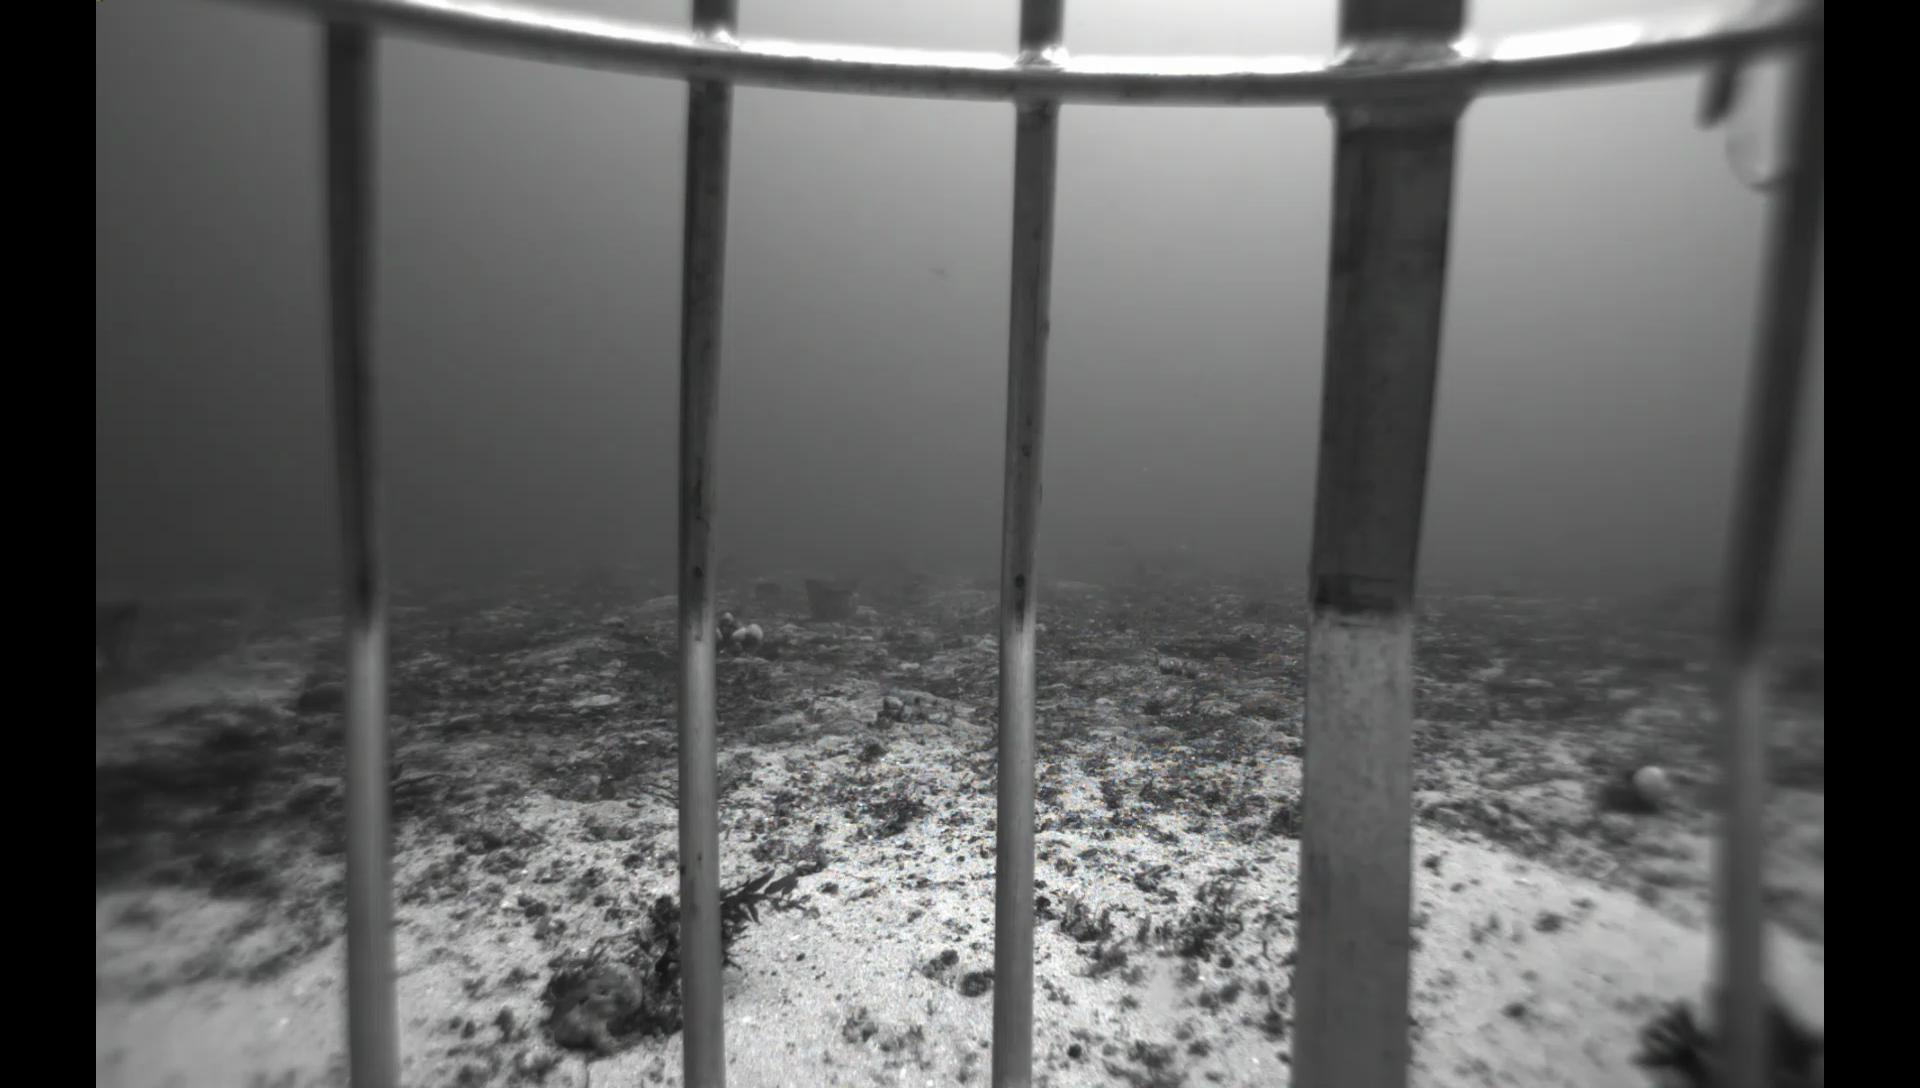CHAETODONOCELLATUS-170260307: (640, 574, 661, 589), (819, 572, 841, 586)
EPINEPHELUSMORIO-170021211: (98, 587, 150, 673)
PRISTIGENYSALTA-170050401: (287, 673, 345, 719)
